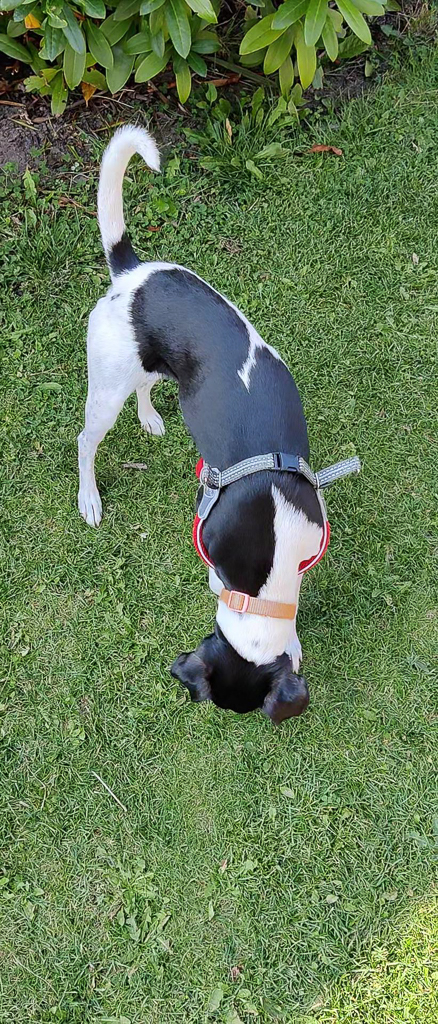Dog: (63, 98, 375, 735)
